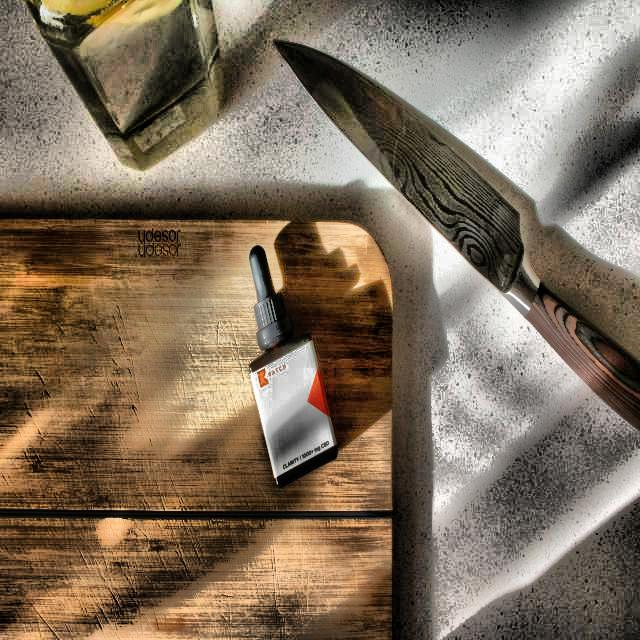knife: (275, 35, 640, 424)
